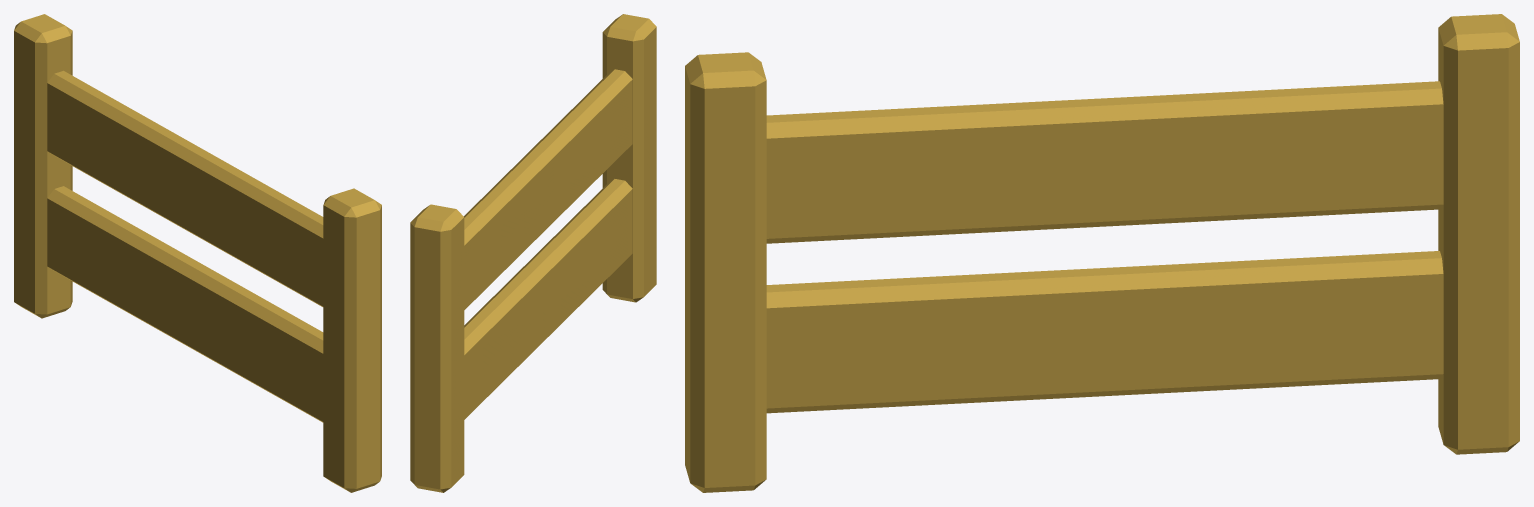
Rendered from woodenZapor.fbx.
3 renders of one model, left to right at view 1: azimuth 30°, elevation 25°; view 2: azimuth 150°, elevation 25°; view 3: azimuth 270°, elevation 25°, orthographic. The views are drawn at different scales.
Parts seen in each view (by area): view 1: Cube.180; view 2: Cube.180; view 3: Cube.180.
Part boxes in pixels (<box>): Cube.180: <box>14,14,381,492</box>; Cube.180: <box>410,14,656,492</box>; Cube.180: <box>685,14,1519,492</box>.
Bounding box in the file's own units: 51.05 × 143 × 257.
